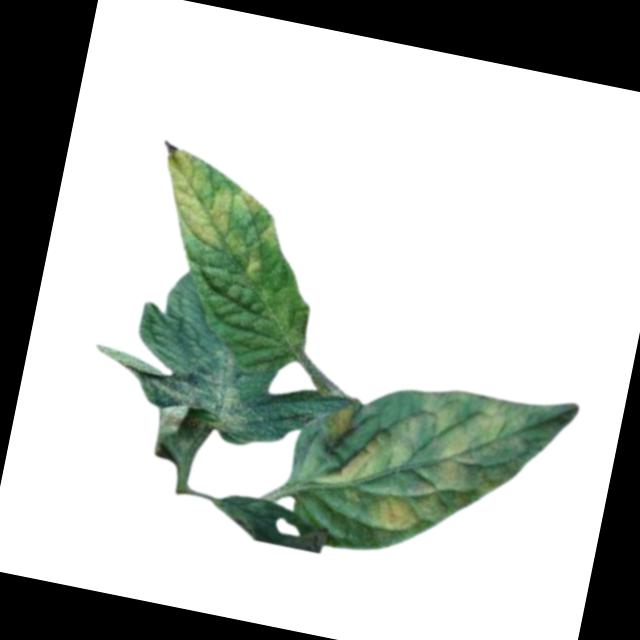Leaf_Mold: (307, 366, 537, 573), (146, 145, 292, 282), (141, 334, 259, 440)
